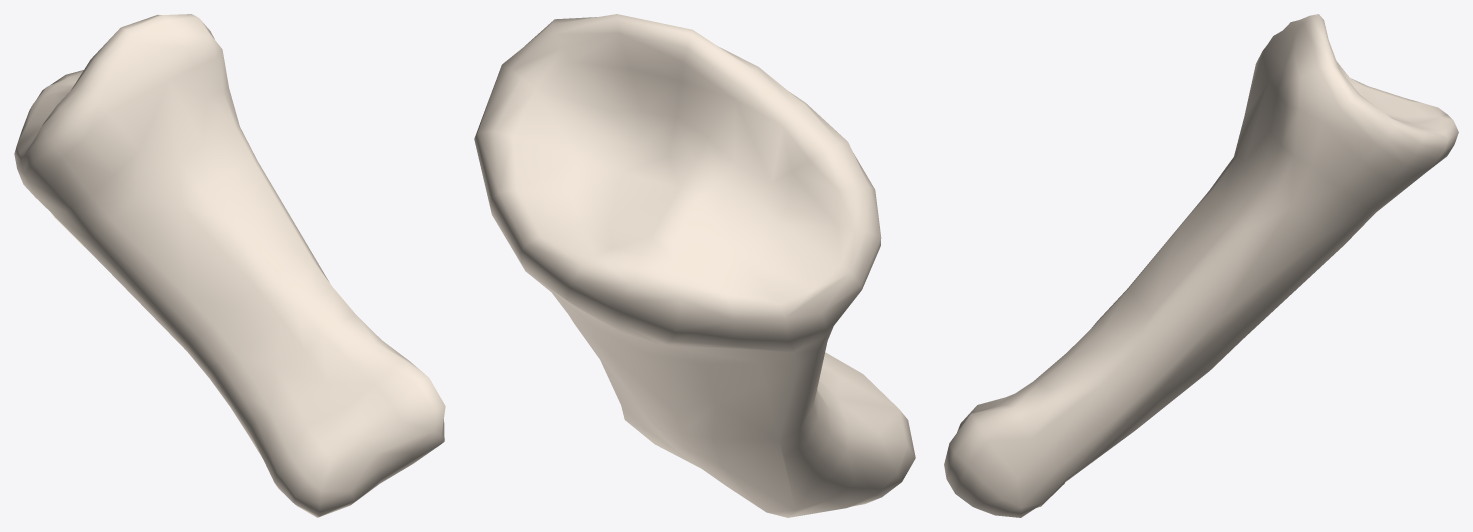
The model's file is left_digit_2_middle.glb.
The picture shows the model from 3 angles, left to right: view 1: azimuth 30°, elevation 25°; view 2: azimuth 150°, elevation 25°; view 3: azimuth 270°, elevation 25°; orthographic projection. The views are drawn at different scales.
Visible parts, largest first — view 1: Middle phalanx of 2d finger.r; view 2: Middle phalanx of 2d finger.r; view 3: Middle phalanx of 2d finger.r.
Part boxes in pixels (bbox=[...]): Middle phalanx of 2d finger.r: bbox=[14, 14, 445, 517]; Middle phalanx of 2d finger.r: bbox=[474, 14, 915, 517]; Middle phalanx of 2d finger.r: bbox=[944, 14, 1458, 517].
Size of the model in its own units: 0.0148 by 0.0205 by 0.0212.
